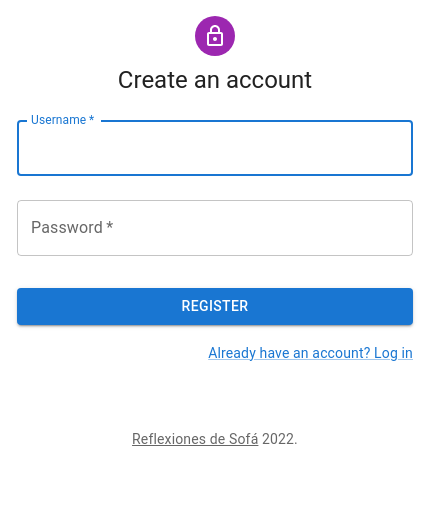
it: Display error alert when the user already exists.
The width and height of the screenshot is (431, 531).
Type "username" into the field with id "username" at (215, 148), box top-left (17, 120), bottom-right (413, 176)
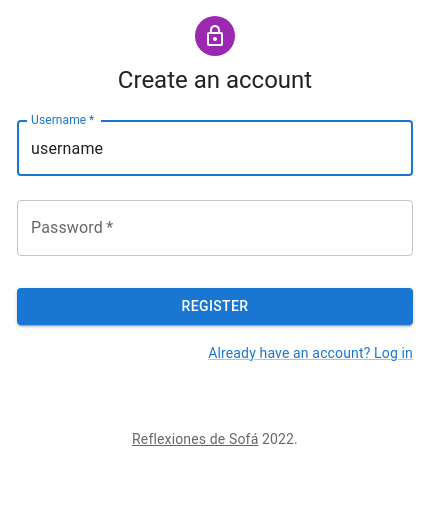
Type "password" into the password field labelled "Password *" at (215, 228), box top-left (17, 200), bottom-right (413, 256)
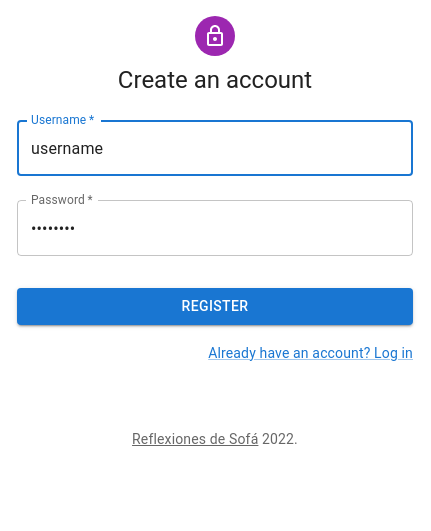
Click the button with test id "register-button" at (215, 306), box top-left (17, 288), bottom-right (413, 324)
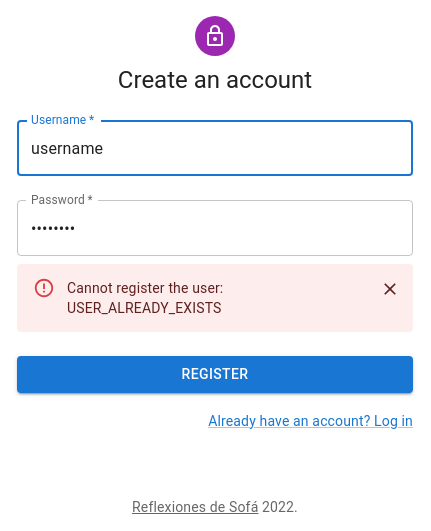
Now the message "Cannot register the user: USER_ALREADY_EXISTS" is shown, box top-left (17, 264), bottom-right (413, 332)
